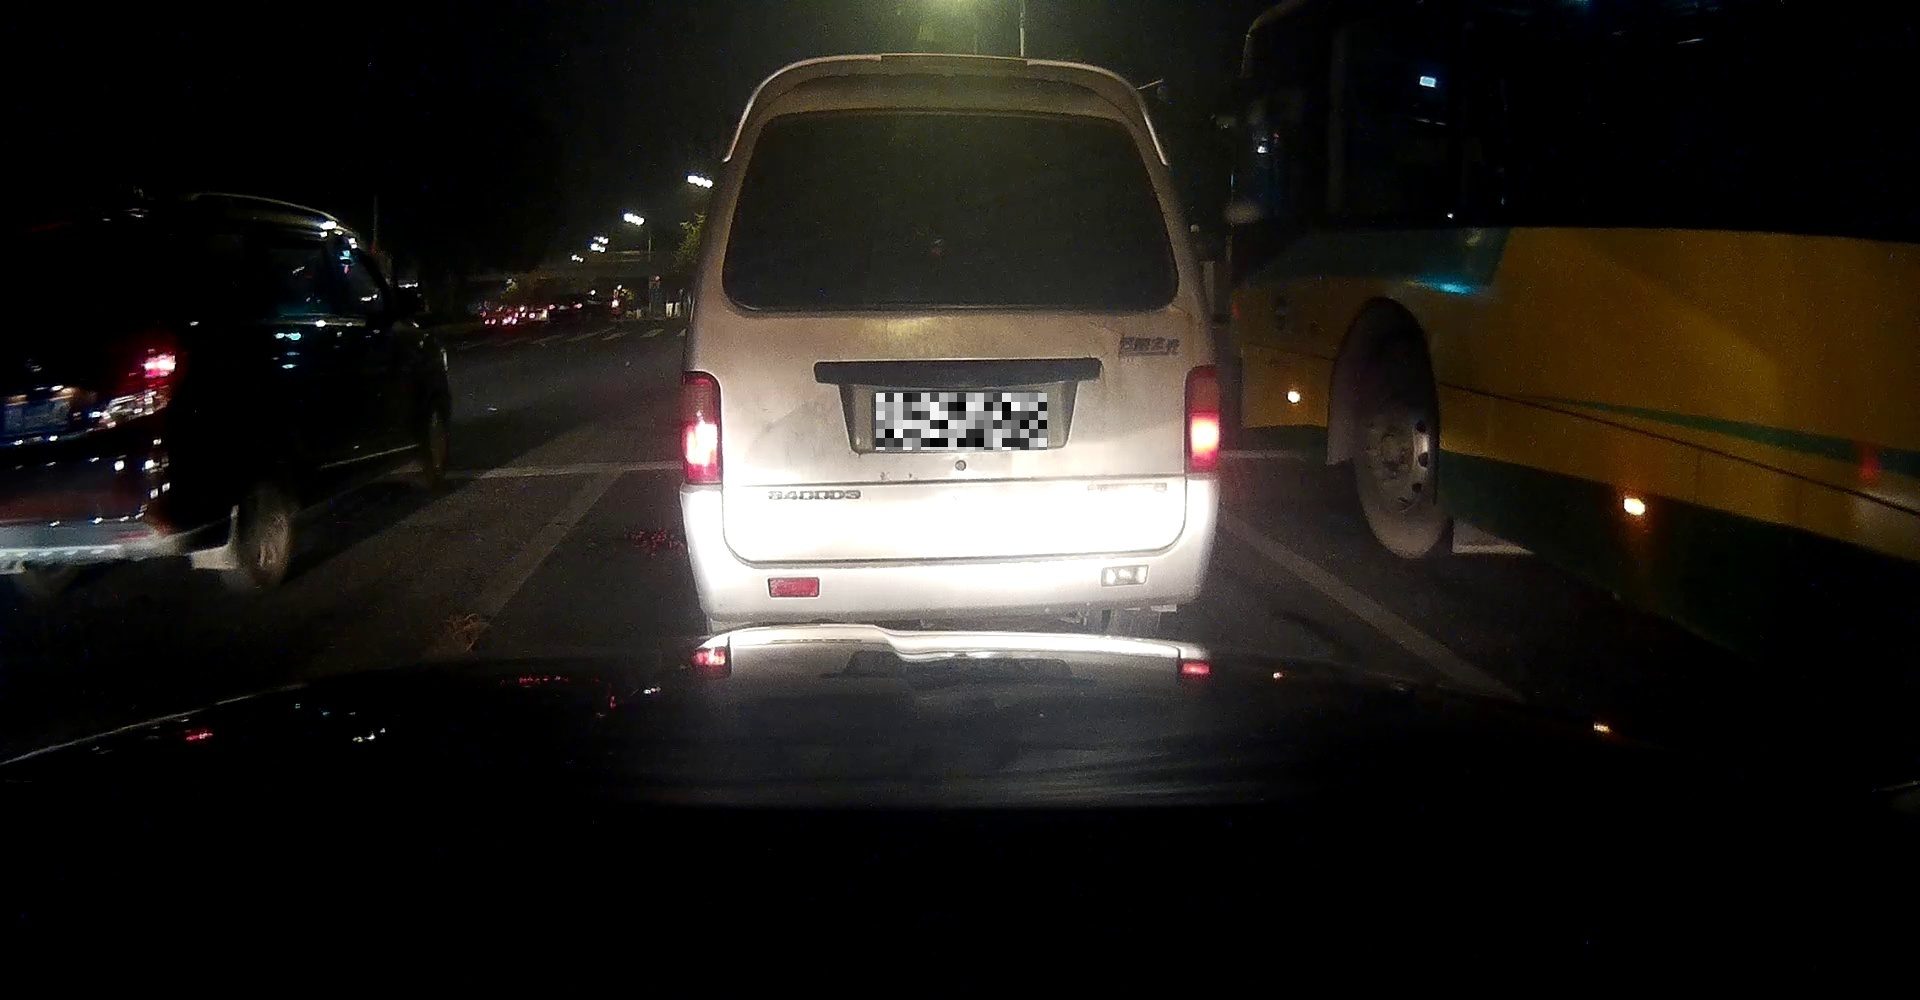L_light: (676, 371, 720, 489)
R_light: (1183, 365, 1219, 473)
T_light: (910, 114, 966, 124)
night-no: (676, 51, 1220, 629)
plate_1: (876, 393, 1048, 451)
